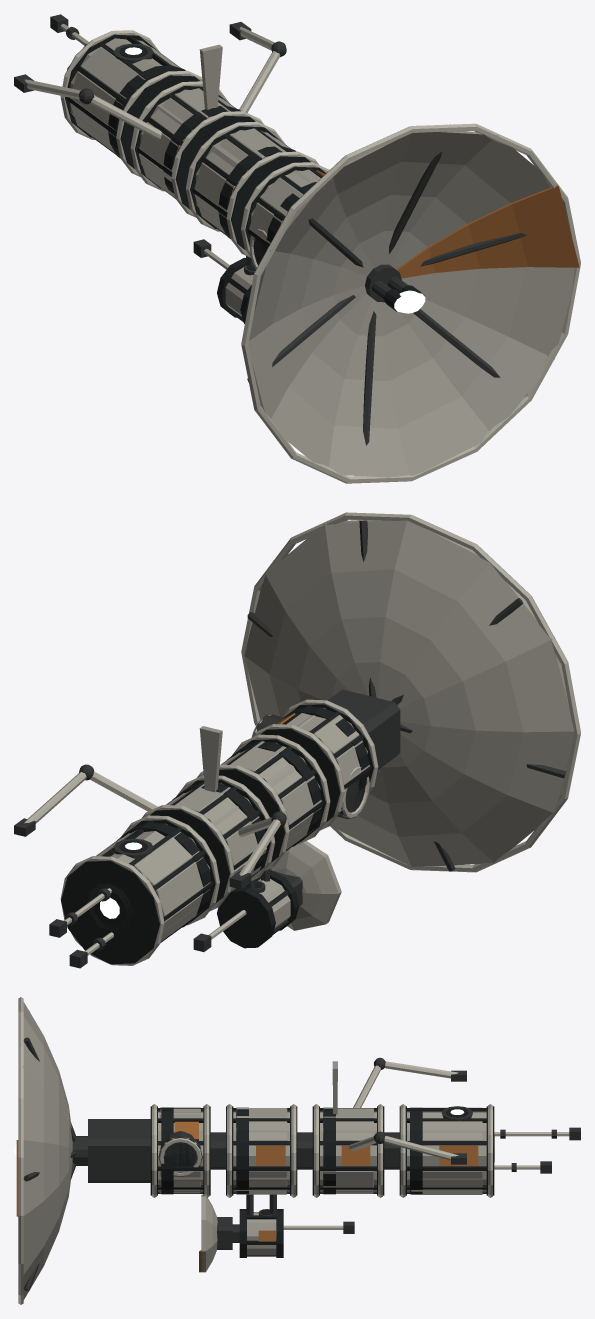
3 views of the same model, one above another, from view 1: azimuth 30°, elevation 25°; view 2: azimuth 150°, elevation 25°; view 3: azimuth 270°, elevation 25° (orthographic). The views are drawn at different scales.
Parts seen in each view (by area): view 1: RIMWARD_HULL; view 2: RIMWARD_HULL; view 3: RIMWARD_HULL.
Part boxes in pixels (x1,y1,x2,y2): RIMWARD_HULL: (14, 14, 580, 483); RIMWARD_HULL: (14, 512, 580, 968); RIMWARD_HULL: (16, 997, 580, 1304).
Bounding box in the file's own units: 5.86 × 5.86 × 10.78.
